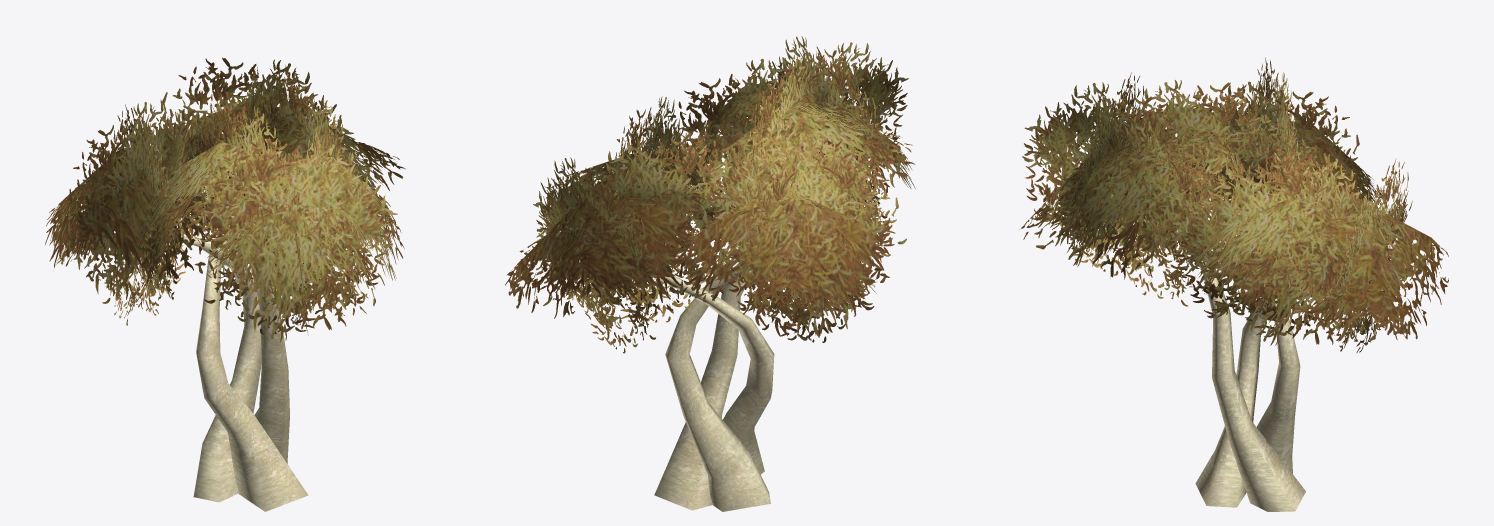
File: decd_windswept_a3_l1.fbx
The picture shows the model from 3 angles, left to right: view 1: azimuth 30°, elevation 25°; view 2: azimuth 150°, elevation 25°; view 3: azimuth 270°, elevation 25°; orthographic projection. The views are drawn at different scales.
Visible parts, largest first — view 1: mesh_node; view 2: mesh_node; view 3: mesh_node.
Boxes of the visible parts, x1,y1,x2,y2 form: mesh_node: (45,57,405,511); mesh_node: (505,36,915,511); mesh_node: (1019,57,1448,511).
Size of the model in its own units: 5.98 by 6.45 by 6.75.
